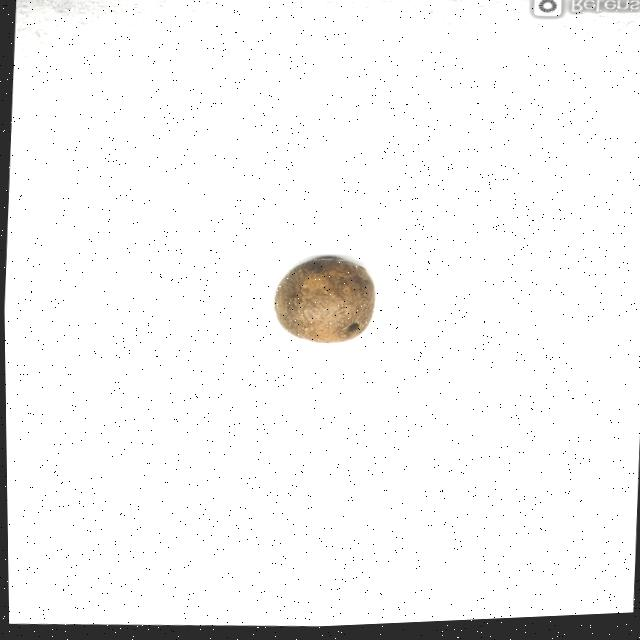Insect damage: (270, 260, 376, 349)
